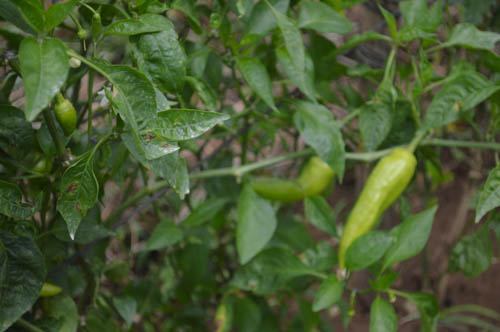ChiliPepper: (336, 147, 418, 270), (246, 155, 342, 213)
